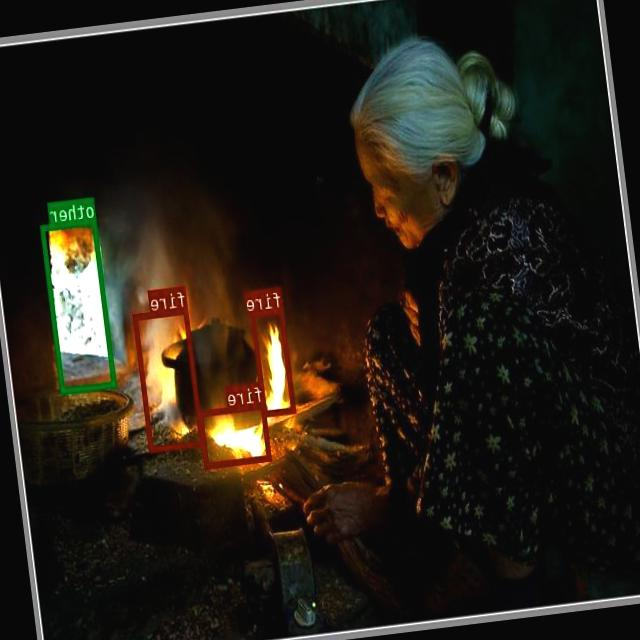fire: (133, 306, 205, 451), (250, 306, 296, 414), (198, 401, 272, 466)
